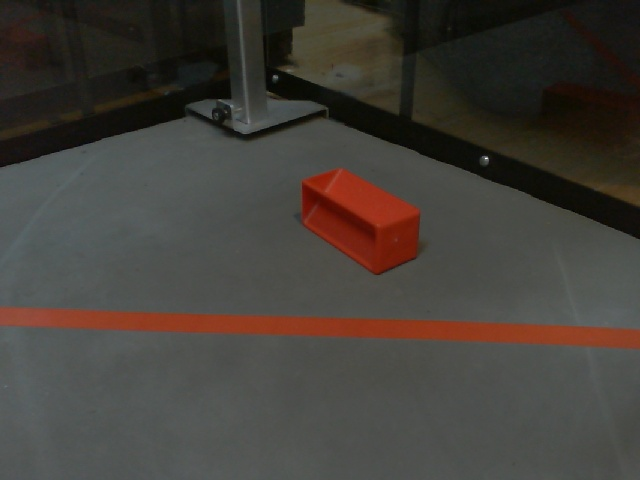RedSample: (297, 165, 425, 277)
